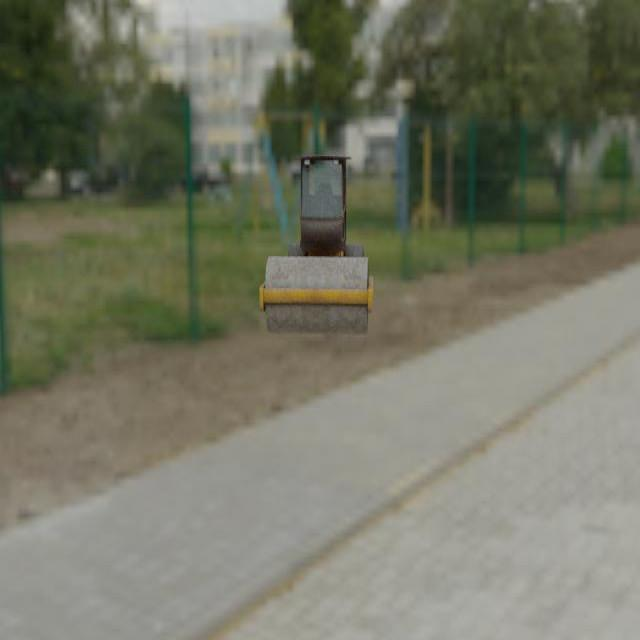Roller: (259, 153, 373, 335)
